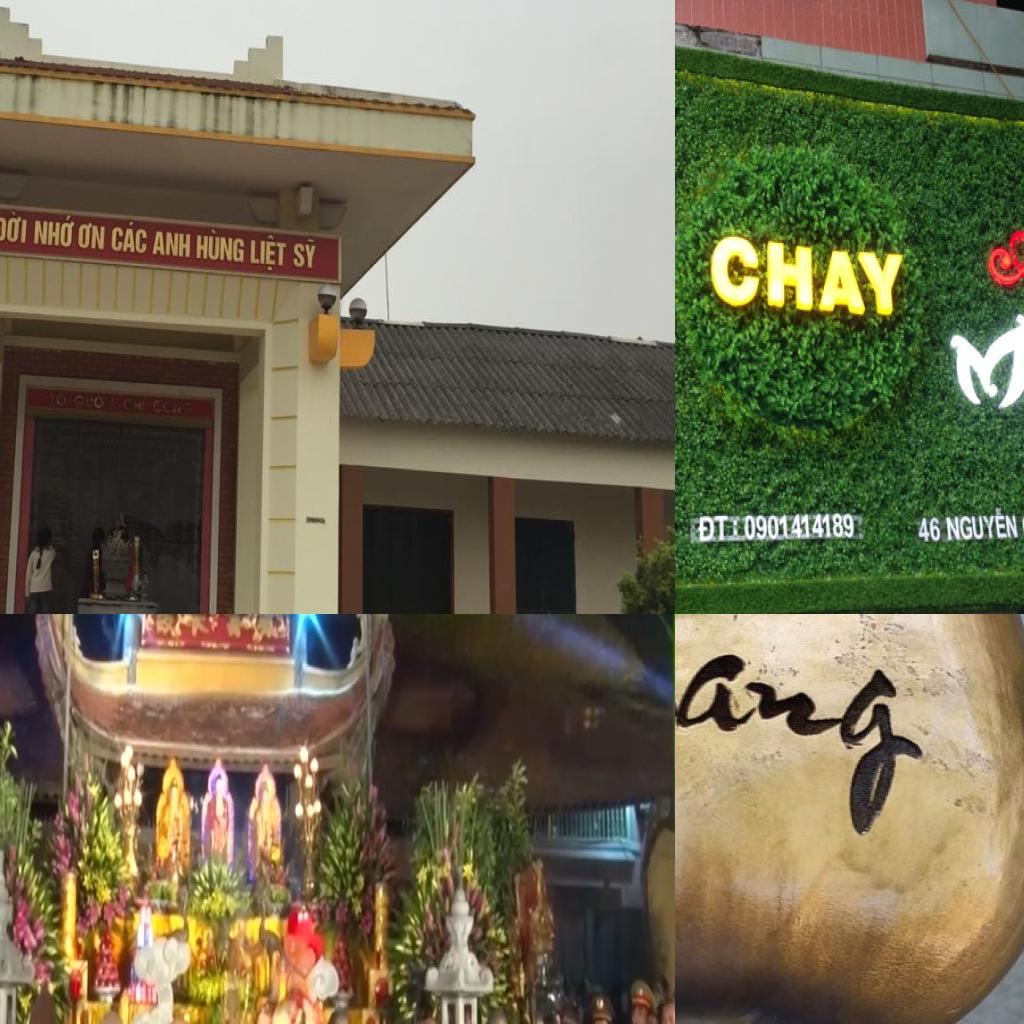text: (709, 232, 907, 320), (948, 313, 1024, 410), (744, 511, 858, 545), (985, 211, 1024, 291), (941, 510, 1022, 543), (195, 227, 246, 265), (33, 211, 77, 248), (250, 232, 288, 274), (695, 514, 741, 545), (110, 220, 148, 254), (150, 230, 192, 259), (0, 208, 28, 244), (292, 236, 319, 270), (77, 221, 106, 252), (916, 516, 942, 545), (73, 392, 106, 410), (122, 398, 143, 416), (152, 399, 164, 414), (57, 394, 68, 408)
